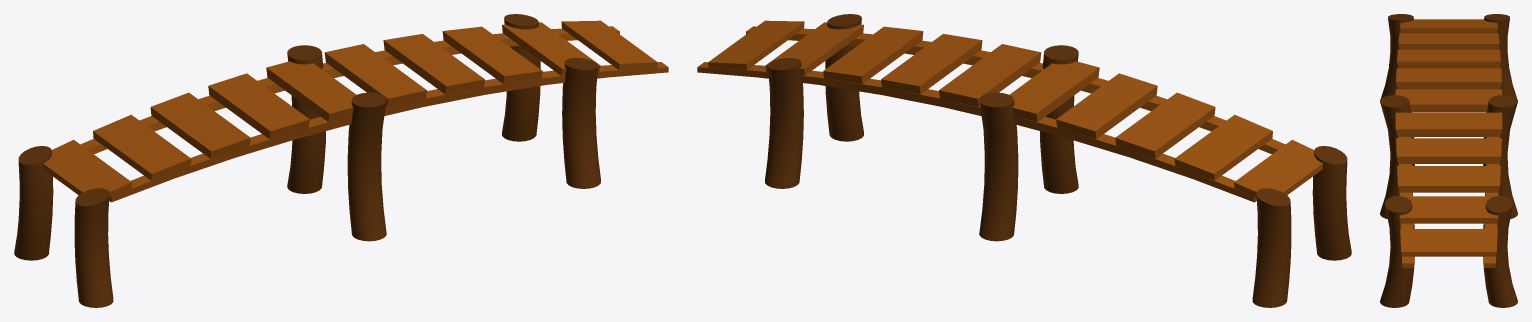
The model's file is 3D_Sea_Jetty.FBX.
3 renders of one model, left to right at view 1: azimuth 30°, elevation 25°; view 2: azimuth 150°, elevation 25°; view 3: azimuth 270°, elevation 25°, orthographic. The views are drawn at different scales.
Parts seen in each view (by area): view 1: 3D_Sea_Jetty; view 2: 3D_Sea_Jetty; view 3: 3D_Sea_Jetty.
Boxes of the visible parts, bbox=[...] form: 3D_Sea_Jetty: bbox=[14, 14, 668, 307]; 3D_Sea_Jetty: bbox=[697, 14, 1351, 307]; 3D_Sea_Jetty: bbox=[1380, 14, 1517, 307].
Size of the model in its own units: 304 by 65.64 by 72.77.
